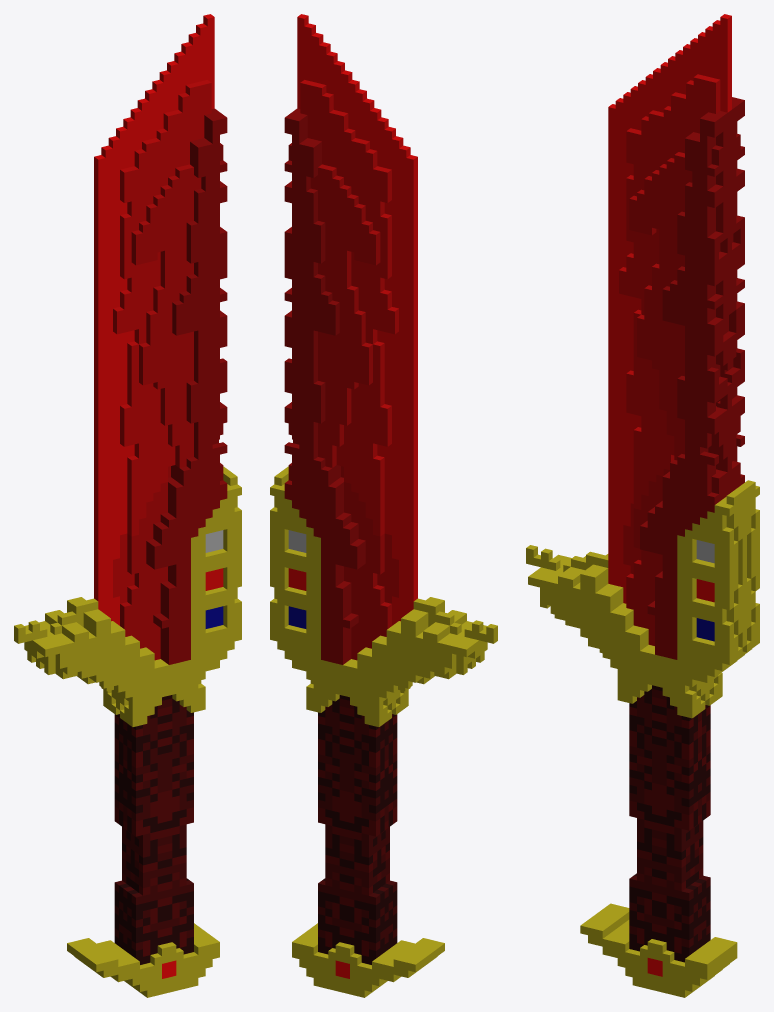
Rendered from blade.obj.
3 views of the same model, side by side, from view 1: azimuth 30°, elevation 25°; view 2: azimuth 150°, elevation 25°; view 3: azimuth 330°, elevation 25° (orthographic). The views are drawn at different scales.
Size of the model in its own units: 2.9 by 12.5 by 0.7.
Materials: 1 (1 with a texture image).
